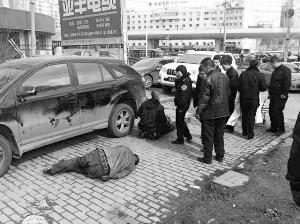Fall-Detected: (37, 139, 144, 182)
